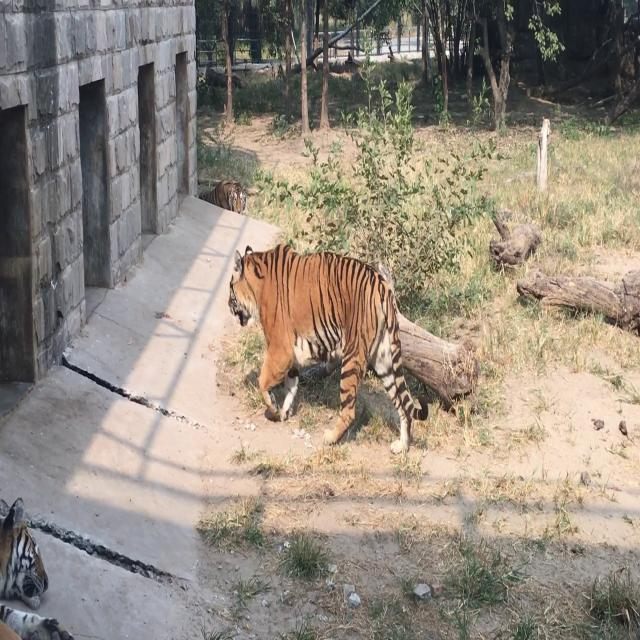Tiger: (220, 232, 436, 464), (196, 167, 250, 225)
